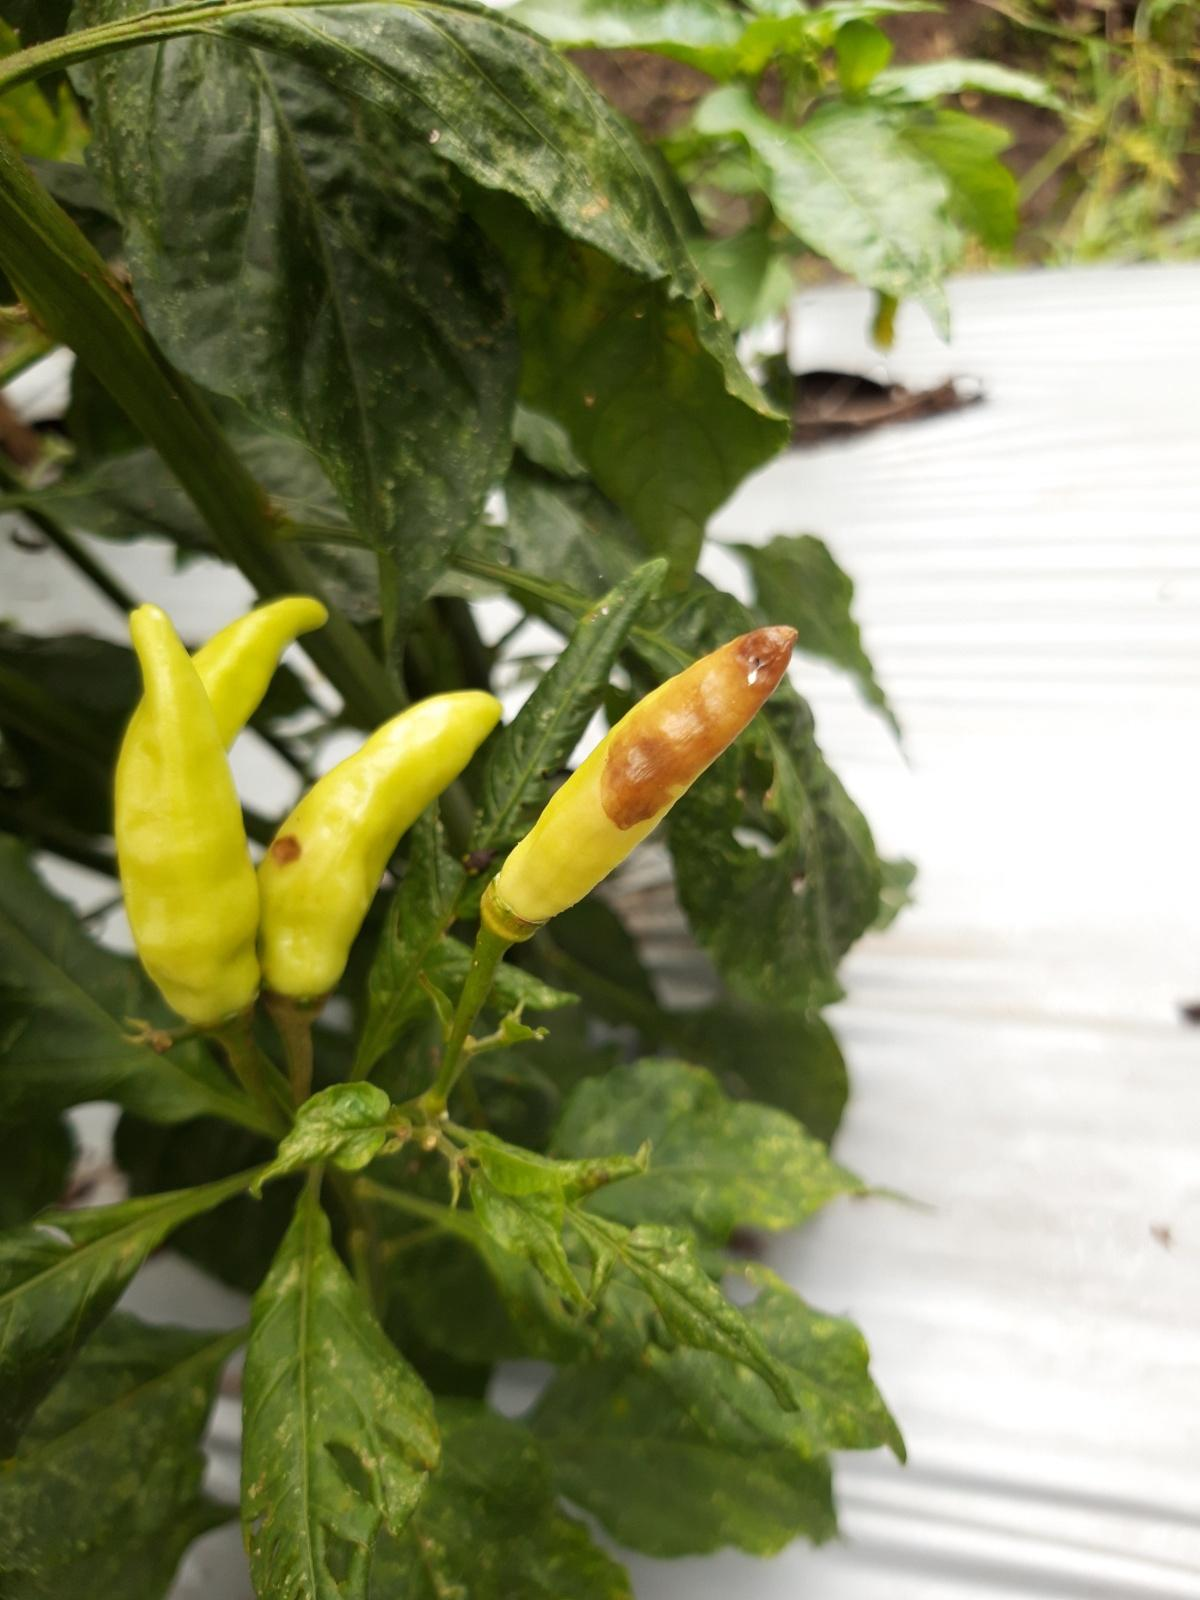cabai_normal: (102, 603, 261, 1043)
lalat_buah: (471, 621, 803, 944), (256, 685, 503, 1002)
